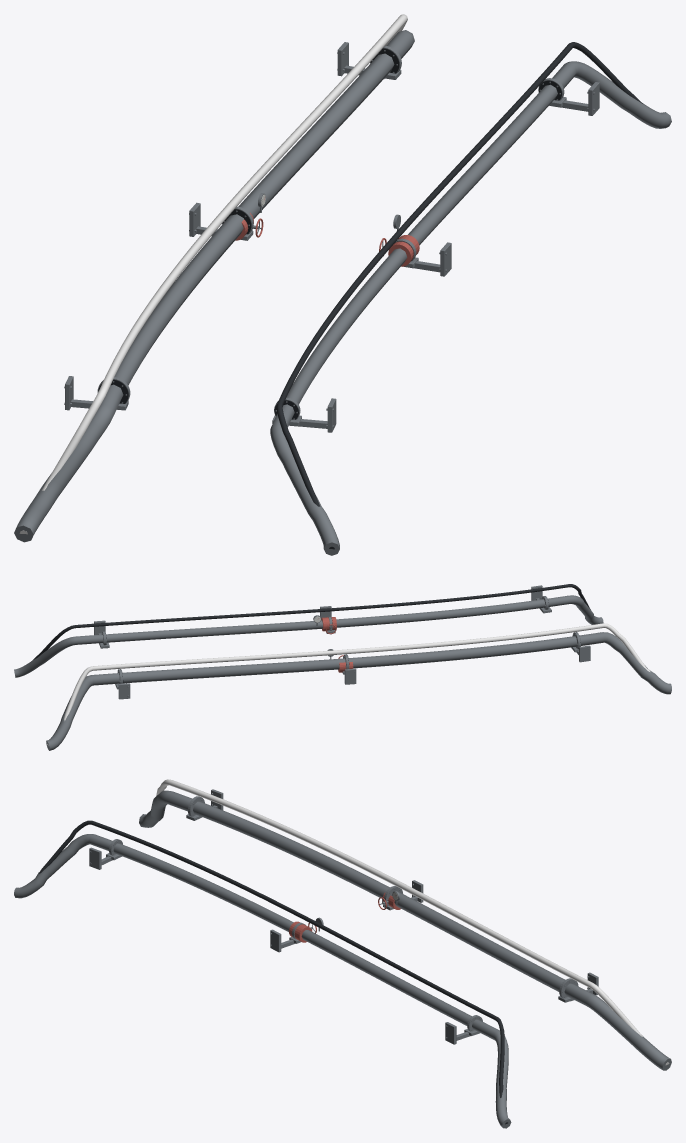
File: BD_T01_UpperProcessLines.fbx
3 renders of one model, top to bottom at view 1: azimuth 30°, elevation 25°; view 2: azimuth 150°, elevation 25°; view 3: azimuth 270°, elevation 25°, orthographic. The views are drawn at different scales.
Parts seen in each view (by area): view 1: BD_T01_UpperProcessLines; view 2: BD_T01_UpperProcessLines; view 3: BD_T01_UpperProcessLines.
Part boxes in pixels (bbox=[...]): BD_T01_UpperProcessLines: bbox=[14, 14, 671, 555]; BD_T01_UpperProcessLines: bbox=[14, 584, 671, 750]; BD_T01_UpperProcessLines: bbox=[14, 779, 671, 1128].
Size of the model in its own units: 1554 by 189 by 1409.
